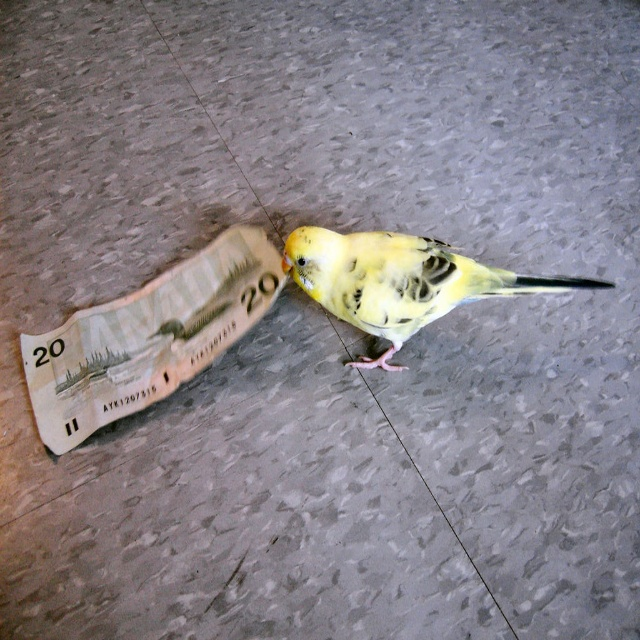Canary: (280, 223, 620, 373)
